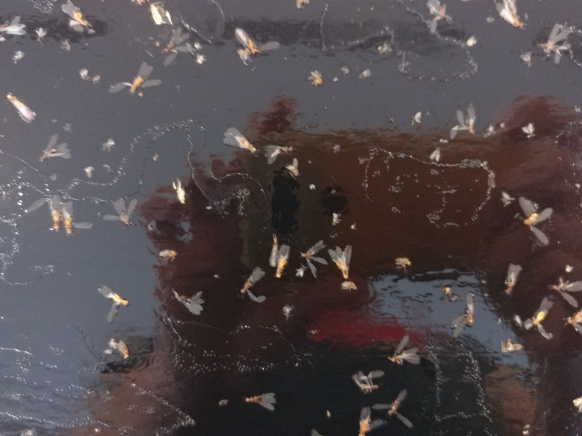flying termite: (517, 193, 555, 251), (229, 25, 279, 64), (109, 62, 164, 97), (93, 283, 132, 323), (387, 334, 422, 373), (235, 264, 267, 306), (5, 90, 40, 127), (168, 286, 208, 318), (62, 196, 92, 238), (38, 188, 65, 233), (329, 237, 356, 281), (38, 135, 74, 164), (221, 125, 254, 156), (501, 259, 522, 300), (275, 237, 290, 286)
